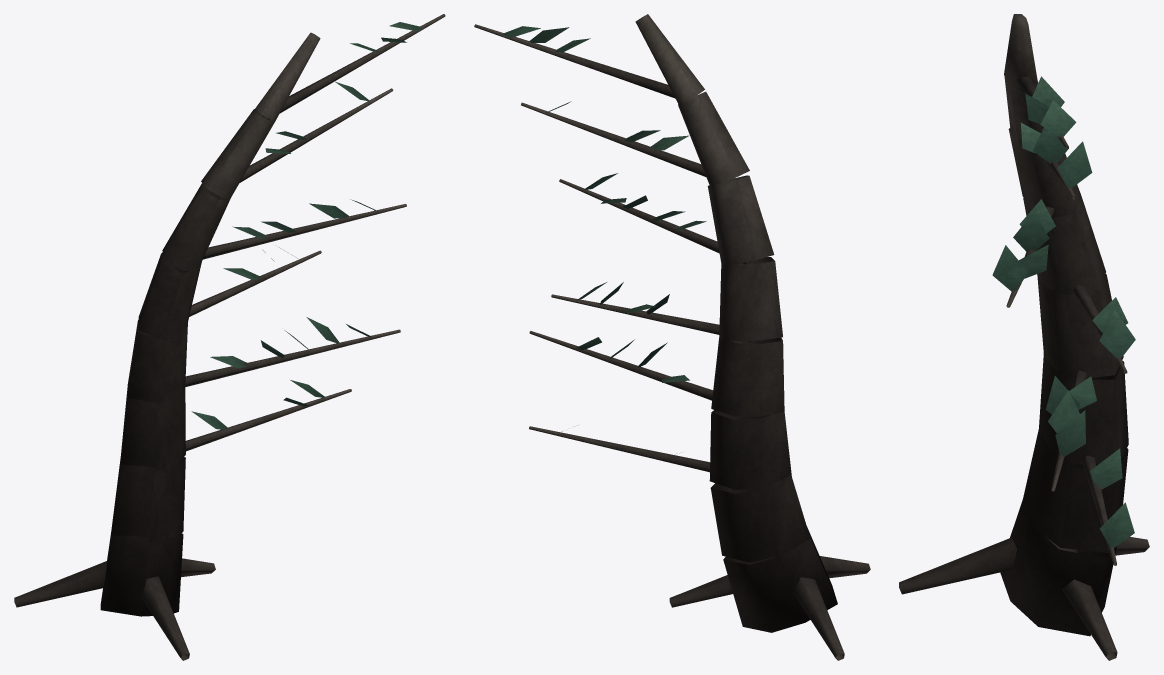
Rendered from deadpine.glb.
The picture shows the model from 3 angles, left to right: view 1: azimuth 30°, elevation 25°; view 2: azimuth 150°, elevation 25°; view 3: azimuth 270°, elevation 25°; orthographic projection. The views are drawn at different scales.
Visible parts, largest first — view 1: deadpine; view 2: deadpine; view 3: deadpine.
Boxes of the visible parts, x1,y1,x2,y2 form: deadpine: (14,14,445,660); deadpine: (474,14,870,660); deadpine: (899,14,1149,660).
Bounding box in the file's own units: 3.4 × 4.55 × 1.48.
1 material, 1 textured.
